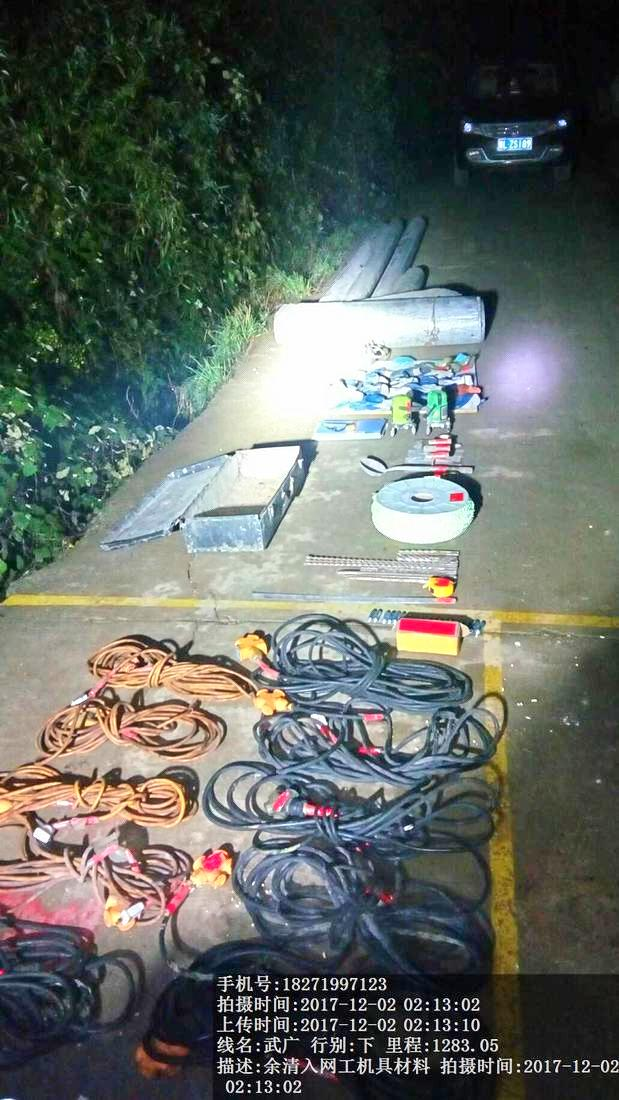DX: (5, 756, 190, 829), (74, 625, 249, 700), (41, 696, 229, 763)
